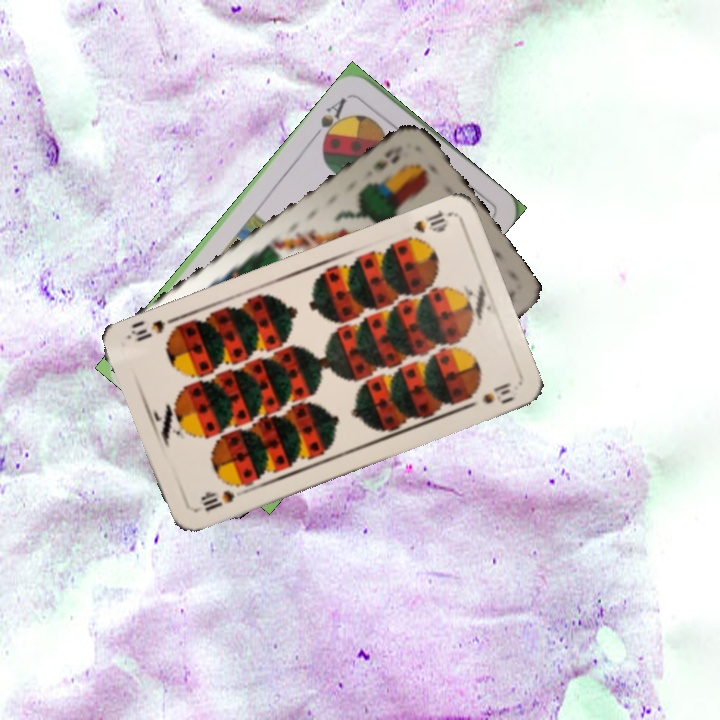EK: (368, 141, 405, 174)
S10: (196, 479, 245, 514), (409, 206, 450, 236)
SA: (316, 93, 353, 146)
